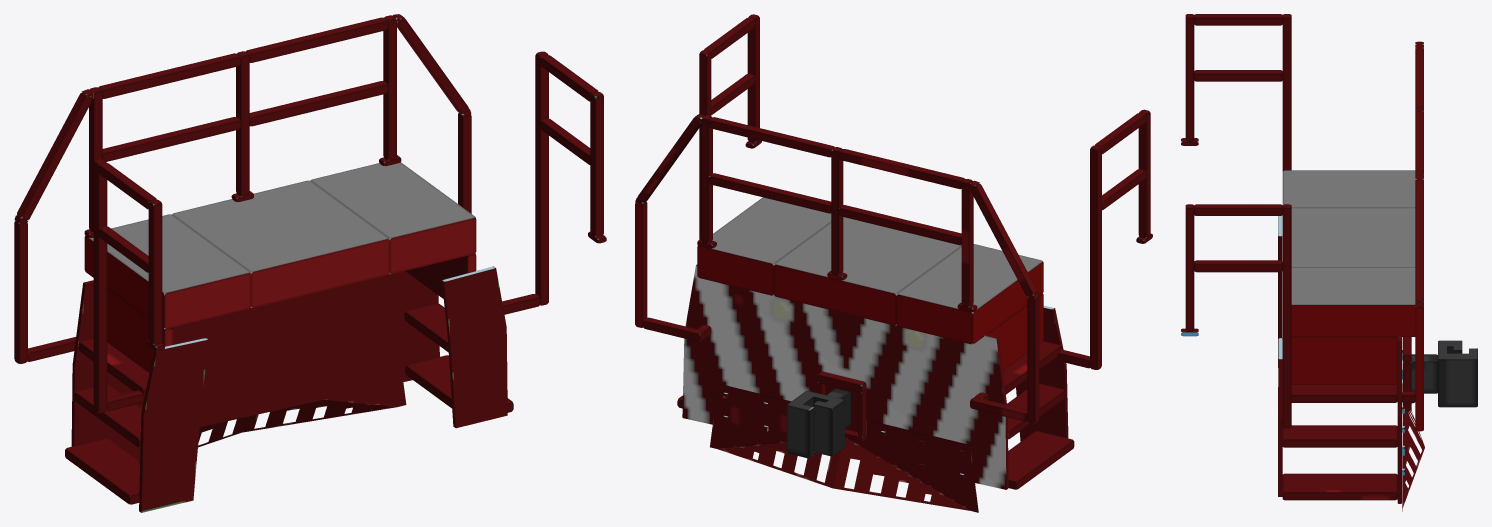
Rendered from df7g_cowcatcher_b.obj.
3 views of the same model, side by side, from view 1: azimuth 30°, elevation 25°; view 2: azimuth 150°, elevation 25°; view 3: azimuth 270°, elevation 25° (orthographic). The views are drawn at different scales.
Parts seen in each view (by area): view 1: df7g_cowcatcher_b; view 2: df7g_cowcatcher_b; view 3: df7g_cowcatcher_b.
Part boxes in pixels (bbox=[...]): df7g_cowcatcher_b: bbox=[14, 14, 606, 512]; df7g_cowcatcher_b: bbox=[635, 14, 1152, 512]; df7g_cowcatcher_b: bbox=[1181, 14, 1477, 511].
Size of the model in its own units: 3.28 by 2.63 by 2.1.
